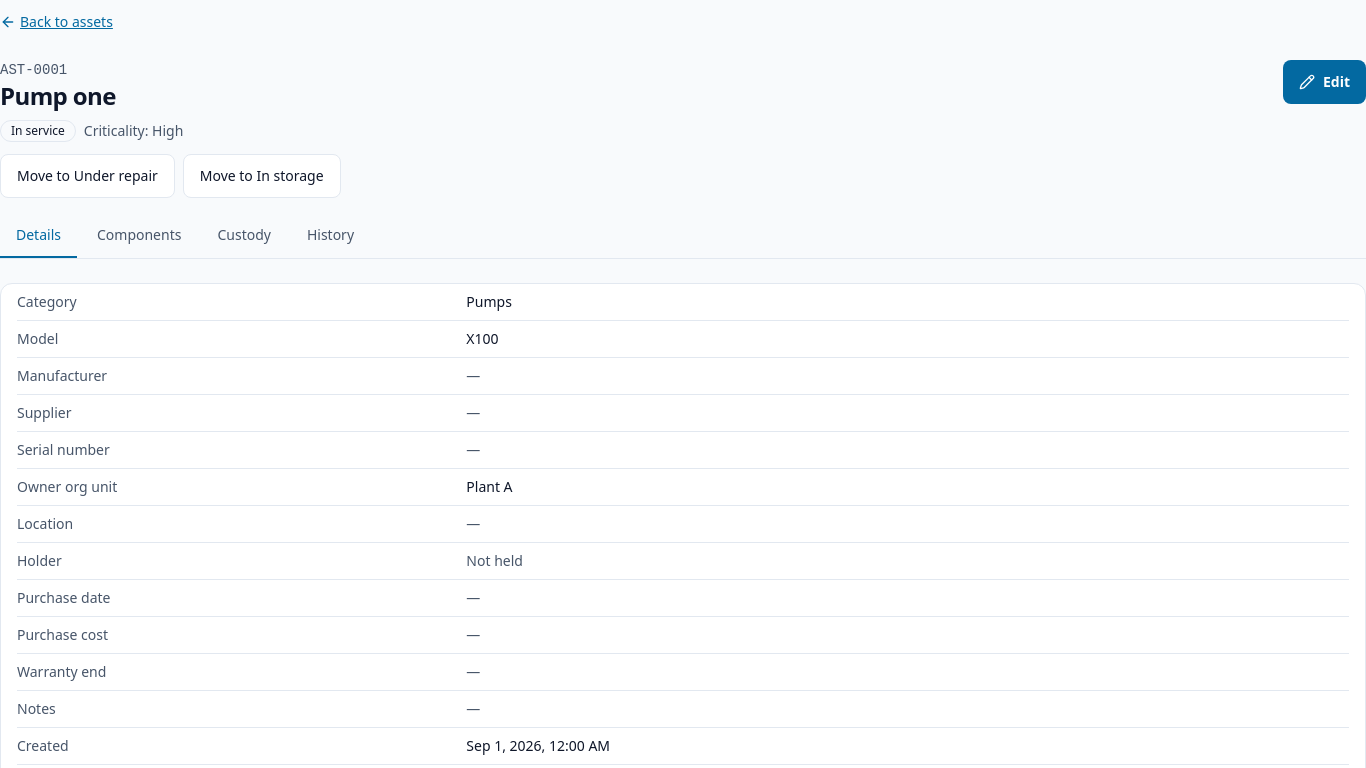
Test case: status menu › asks for a reason when one is required, and sends it with the version
This screenshot has width=1366, height=768.
Click the button "Move to Under repair".
click(87, 176)  # box [0,154,175,198]
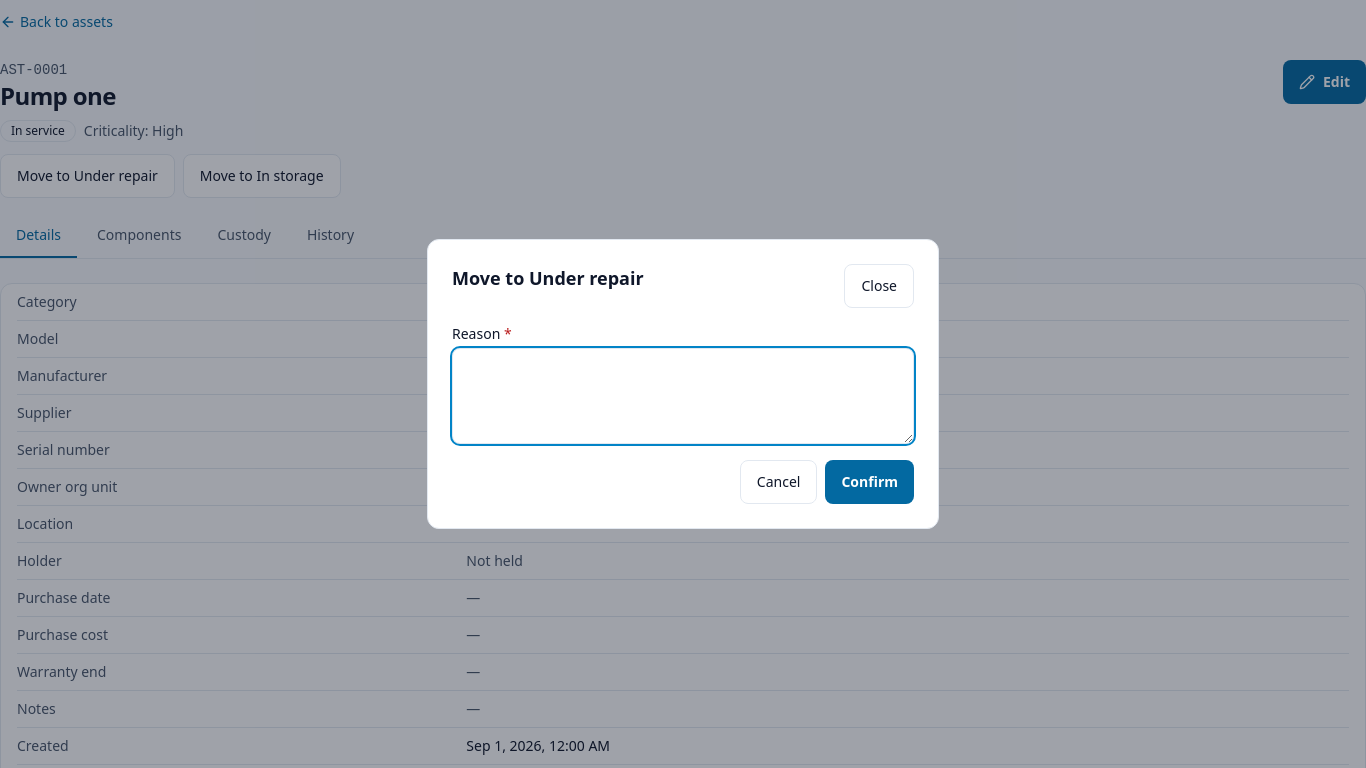
Click the button "Confirm".
click(870, 482)  # box [825,460,914,504]
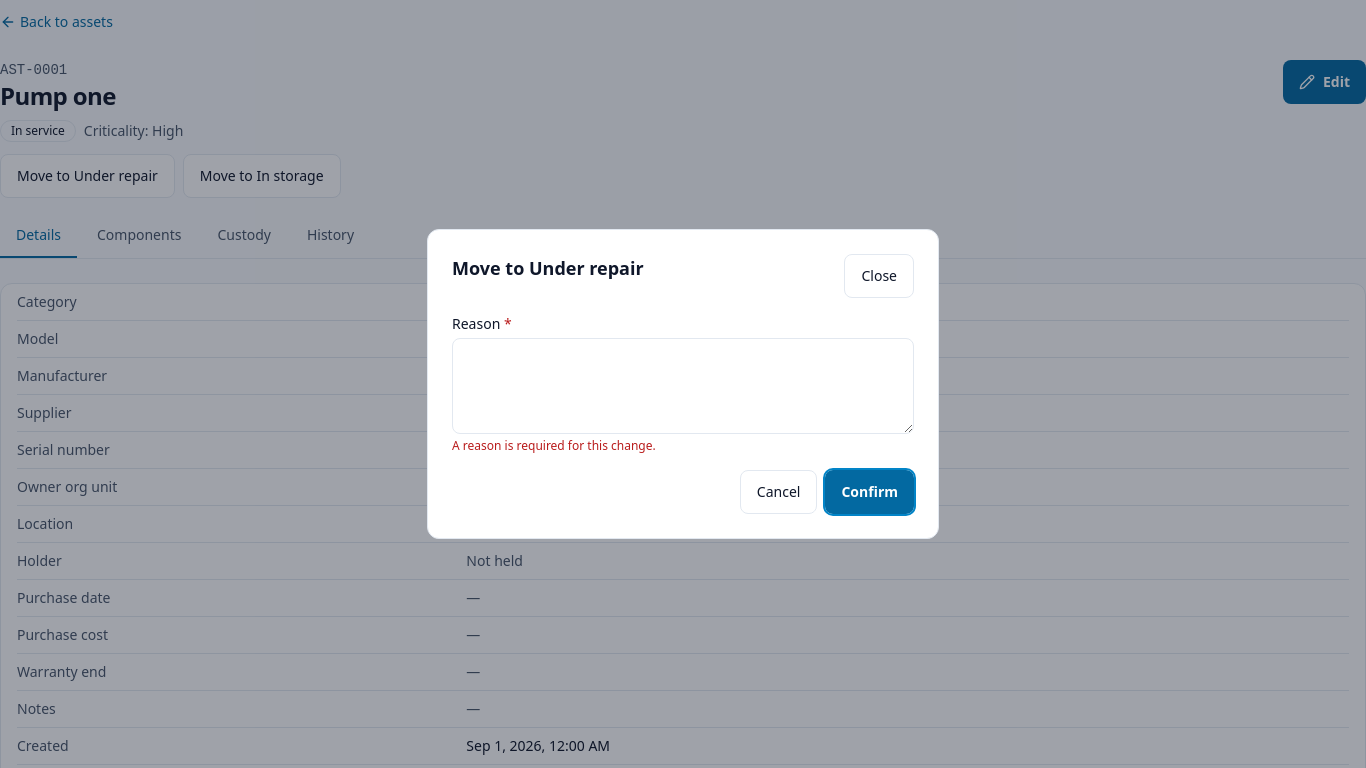
Result: the text "A reason is required for this change." is shown at [452,437,656,454]
Type "Leaking seal" into the text box labelled "Reason *".
click(683, 386); type("Leaking seal")  # box [452,338,914,434]
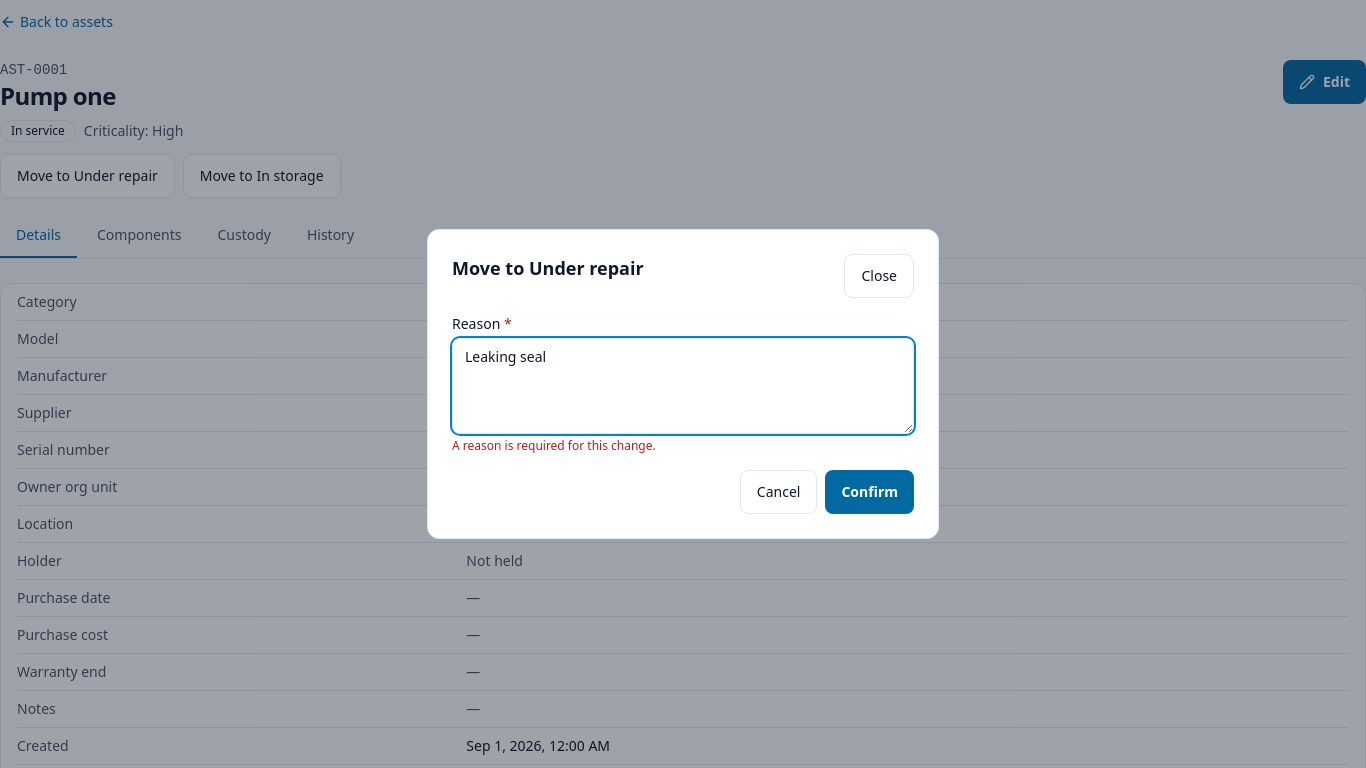
Click the button "Confirm".
click(870, 492)  # box [825,470,914,514]
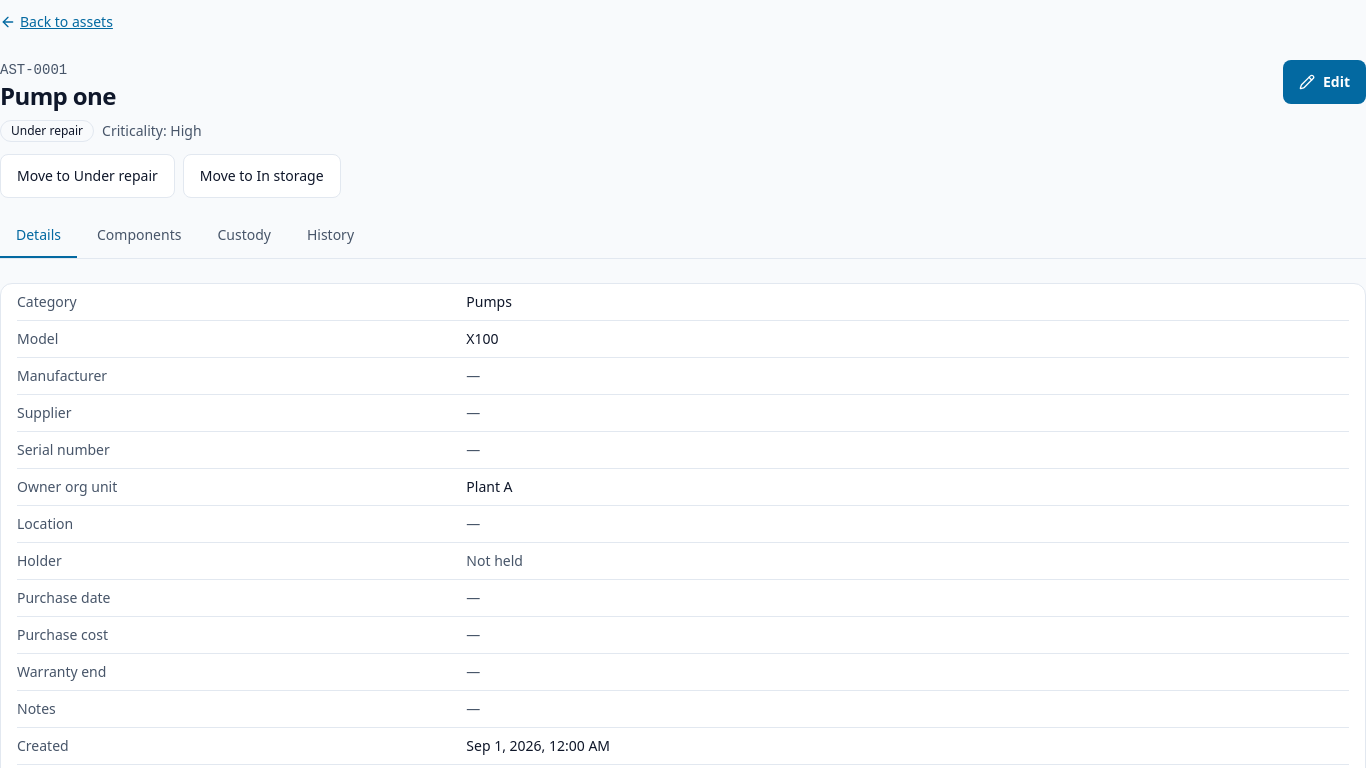
Result: the text "Under repair" is shown at [11,123,83,139]
